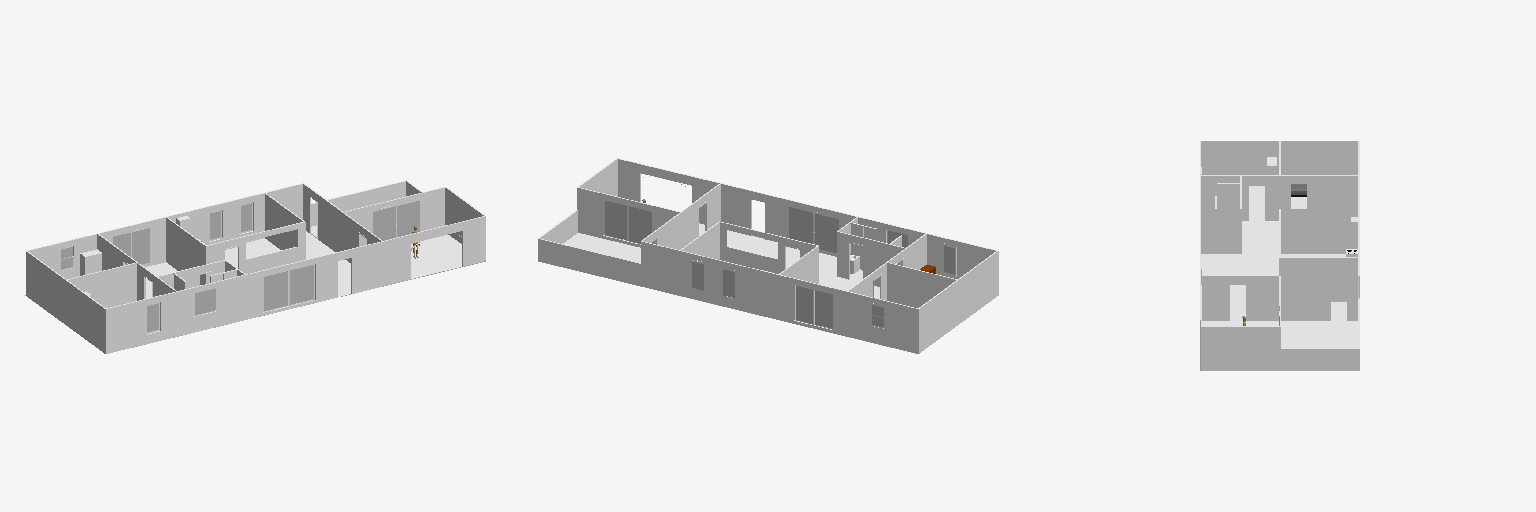
The model's file is DERV_2_U1_Estrutura_1.obj.
3 views of the same model, side by side, from view 1: azimuth 30°, elevation 25°; view 2: azimuth 150°, elevation 25°; view 3: azimuth 270°, elevation 25° (orthographic).
Visible parts, largest first — view 1: wall_23_137, wall_18_106, wall_17_101, wall_16_95, wall_22_131, wall_9_53, wall_5_29, room_24_140, wall_15_89, wall_14_83, room_25_141, wall_8_47 (+14 smaller); view 2: wall_18_107, wall_19_113, wall_23_136, wall_11_64, room_24_140, wall_5_28, wall_16_94, wall_14_83, wall_15_89, wall_9_52, wall_2_11, wall_6_34 (+16 smaller); view 3: room_24_140, wall_1_5, wall_8_46, wall_3_17, wall_4_22, wall_14_82, wall_15_88, wall_13_77, room_26_142, wall_7_40, wall_12_70, wall_10_59 (+2 smaller).
Part boxes in pixels (left/top/right/bottom): wall_23_137: left=247, top=242, right=383, bottom=319; wall_18_106: left=100, top=184, right=302, bottom=266; wall_17_101: left=106, top=292, right=177, bottom=353; wall_16_95: left=384, top=216, right=485, bottom=285; wall_22_131: left=178, top=275, right=246, bottom=335; wall_9_53: left=206, top=222, right=305, bottom=283; wall_5_29: left=68, top=263, right=136, bottom=307; room_24_140: left=145, top=231, right=350, bottom=298; wall_15_89: left=66, top=281, right=105, bottom=353; wall_14_83: left=26, top=252, right=65, bottom=324; room_25_141: left=411, top=235, right=461, bottom=278; wall_8_47: left=166, top=218, right=205, bottom=284; wall_18_107: left=641, top=242, right=846, bottom=336; wall_19_113: left=847, top=292, right=918, bottom=353; wall_23_136: left=721, top=184, right=855, bottom=256; wall_11_64: left=538, top=239, right=641, bottom=285; room_24_140: left=727, top=230, right=879, bottom=298; wall_5_28: left=887, top=263, right=955, bottom=307; wall_16_94: left=618, top=159, right=719, bottom=224; wall_14_83: left=919, top=280, right=958, bottom=353; wall_15_89: left=959, top=251, right=998, bottom=323; wall_9_52: left=720, top=222, right=815, bottom=273; wall_2_11: left=577, top=188, right=679, bottom=247; wall_6_34: left=837, top=232, right=904, bottom=286; room_24_140: left=1201, top=186, right=1346, bottom=320; wall_1_5: left=1201, top=327, right=1280, bottom=370; wall_8_46: left=1281, top=209, right=1357, bottom=253; wall_3_17: left=1281, top=276, right=1358, bottom=320; wall_4_22: left=1201, top=276, right=1278, bottom=320; wall_14_82: left=1281, top=141, right=1357, bottom=174; wall_15_88: left=1201, top=141, right=1278, bottom=185; wall_13_77: left=1280, top=176, right=1357, bottom=208; room_26_142: left=1281, top=321, right=1357, bottom=347; wall_7_40: left=1201, top=209, right=1241, bottom=253; wall_12_70: left=1280, top=349, right=1359, bottom=370; wall_10_59: left=1279, top=258, right=1357, bottom=301.
Bounding box in the file's own units: 2222 × 250 × 811.